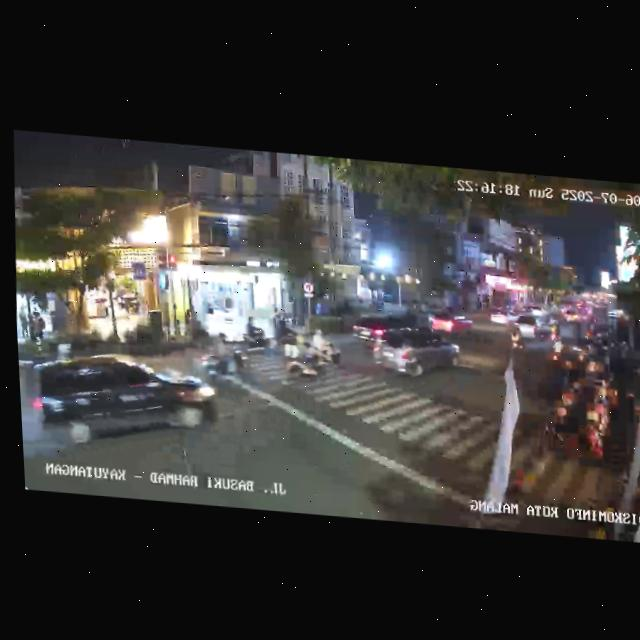car: (28, 345, 222, 455), (367, 324, 461, 384), (349, 313, 417, 354), (425, 310, 475, 339), (513, 309, 558, 341), (484, 307, 521, 330)
motorcycle: (197, 330, 253, 387), (276, 343, 333, 389), (302, 326, 343, 367), (238, 316, 272, 353), (508, 322, 525, 353)
person: (278, 328, 299, 359), (29, 306, 42, 337), (18, 310, 31, 341), (183, 304, 194, 332)
